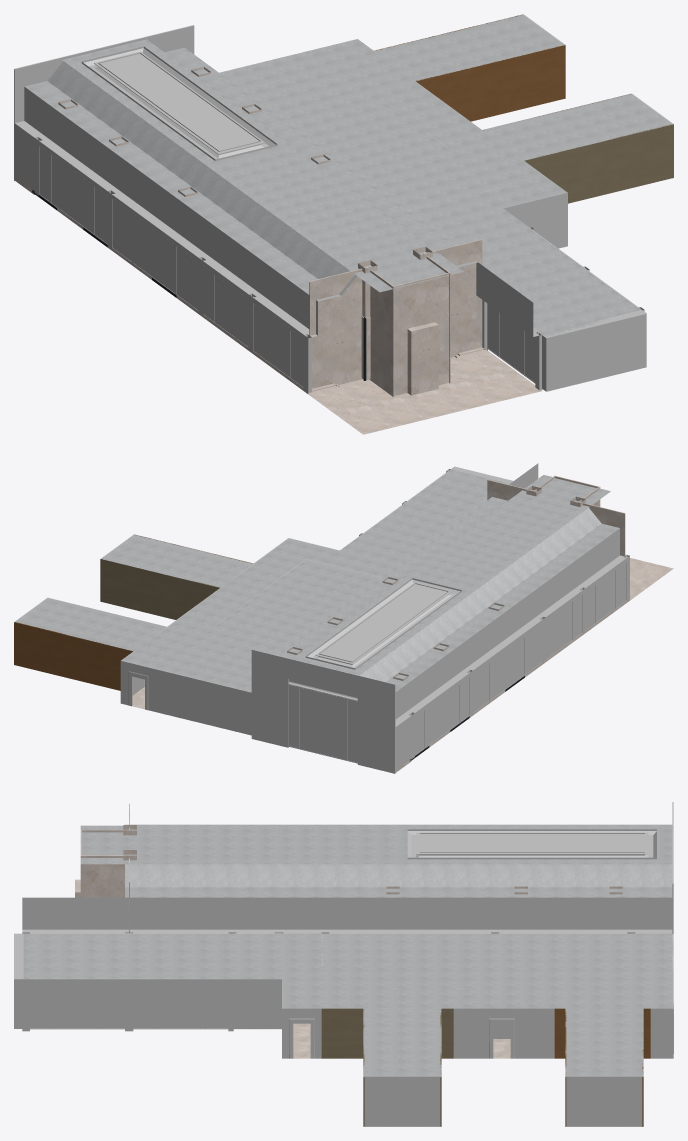
The model's file is Office_Structure_06-07-12.FBX.
The picture shows the model from 3 angles, top to bottom: view 1: azimuth 30°, elevation 25°; view 2: azimuth 150°, elevation 25°; view 3: azimuth 270°, elevation 25°; orthographic projection. The views are drawn at different scales.
Parts seen in each view (by area): view 1: FoyerCeiling, CubicleCeiling, FoyerSWall, FoyerWWall, FoyerWGlass, ConferenceCeiling, FoyerFloor, TerrySWall, VPSWall, TerryCeiling, VPCeiling, ConferenceSWall (+6 smaller); view 2: FoyerCeiling, CubicleCeiling, FoyerWWall, FoyerNWall, FoyerWGlass, ConferenceCeiling, HallNWall1, VPNWall, FoyerNGlass, TerryNWall, VPCeiling, TerryCeiling (+4 smaller); view 3: FoyerCeiling, CubicleCeiling, FoyerEWall, ConferenceCeiling, HallEWall, ConferenceGlass, VPCeiling, TerryCeiling, ConferenceEWall, FoyerCeilingGlass, VPGlass, TerryGlass (+4 smaller).
Boxes of the visible parts, <box> form: FoyerCeiling: <box>24,39,477,301</box>; CubicleCeiling: <box>220,39,567,226</box>; FoyerSWall: <box>309,239,482,396</box>; FoyerWWall: <box>14,87,317,392</box>; FoyerWGlass: <box>39,146,303,387</box>; ConferenceCeiling: <box>429,208,646,337</box>; FoyerFloor: <box>14,177,542,434</box>; TerrySWall: <box>524,124,673,203</box>; VPSWall: <box>415,45,565,121</box>; TerryCeiling: <box>482,94,672,160</box>; VPCeiling: <box>374,14,564,81</box>; ConferenceSWall: <box>542,310,646,391</box>; FoyerCeiling: <box>276,475,619,691</box>; CubicleCeiling: <box>121,538,398,692</box>; FoyerWWall: <box>394,528,629,772</box>; FoyerNWall: <box>251,649,395,773</box>; FoyerWGlass: <box>415,563,626,754</box>; ConferenceCeiling: <box>340,466,513,564</box>; HallNWall1: <box>120,661,251,735</box>; VPNWall: <box>14,622,132,690</box>; FoyerNGlass: <box>288,684,357,762</box>; TerryNWall: <box>100,559,220,619</box>; VPCeiling: <box>16,598,166,651</box>; TerryCeiling: <box>102,535,252,587</box>; FoyerCeiling: <box>80,824,672,897</box>; CubicleCeiling: <box>282,933,673,1008</box>; FoyerEWall: <box>22,897,672,933</box>; ConferenceCeiling: <box>14,933,281,979</box>; HallEWall: <box>282,1008,672,1058</box>; ConferenceGlass: <box>30,984,228,1028</box>; VPCeiling: <box>565,1008,643,1076</box>; TerryCeiling: <box>363,1008,441,1076</box>; ConferenceEWall: <box>22,978,281,1031</box>; FoyerCeilingGlass: <box>416,832,648,854</box>; VPGlass: <box>566,1076,642,1125</box>; TerryGlass: <box>364,1076,440,1125</box>.
Size of the model in its own units: 34.2 by 7.58 by 42.49.
